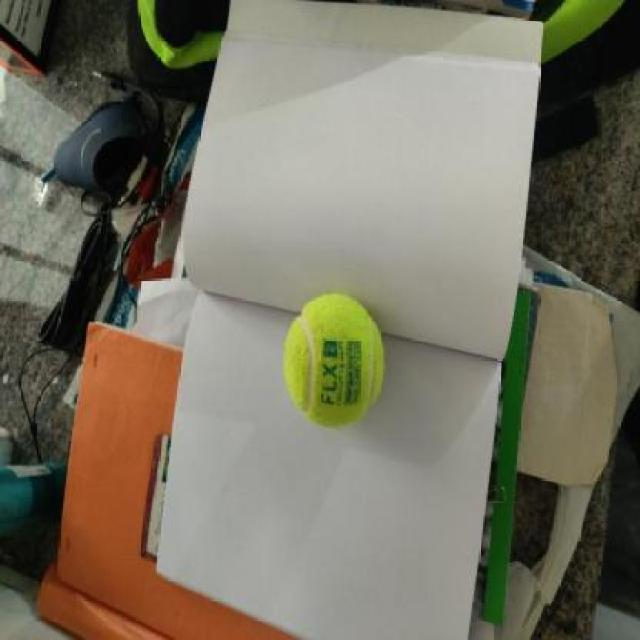Cricket ball: (275, 280, 393, 436)
